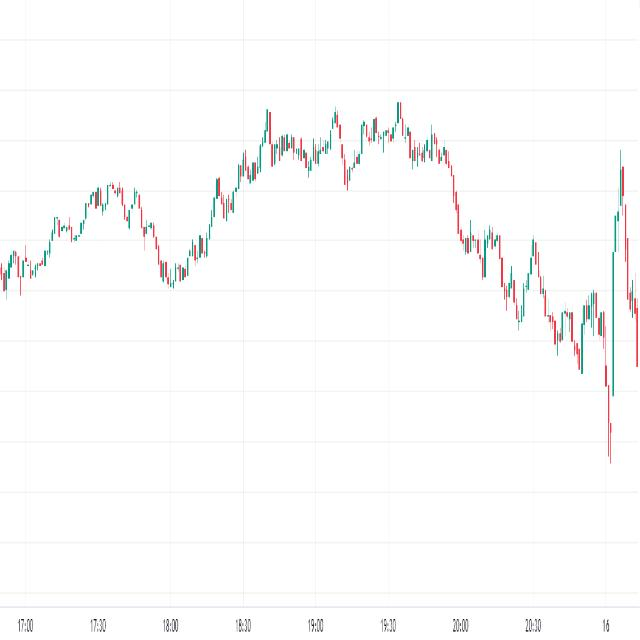Channel-down: (444, 168, 612, 396)
Rounding-Bottom: (149, 220, 215, 296)
